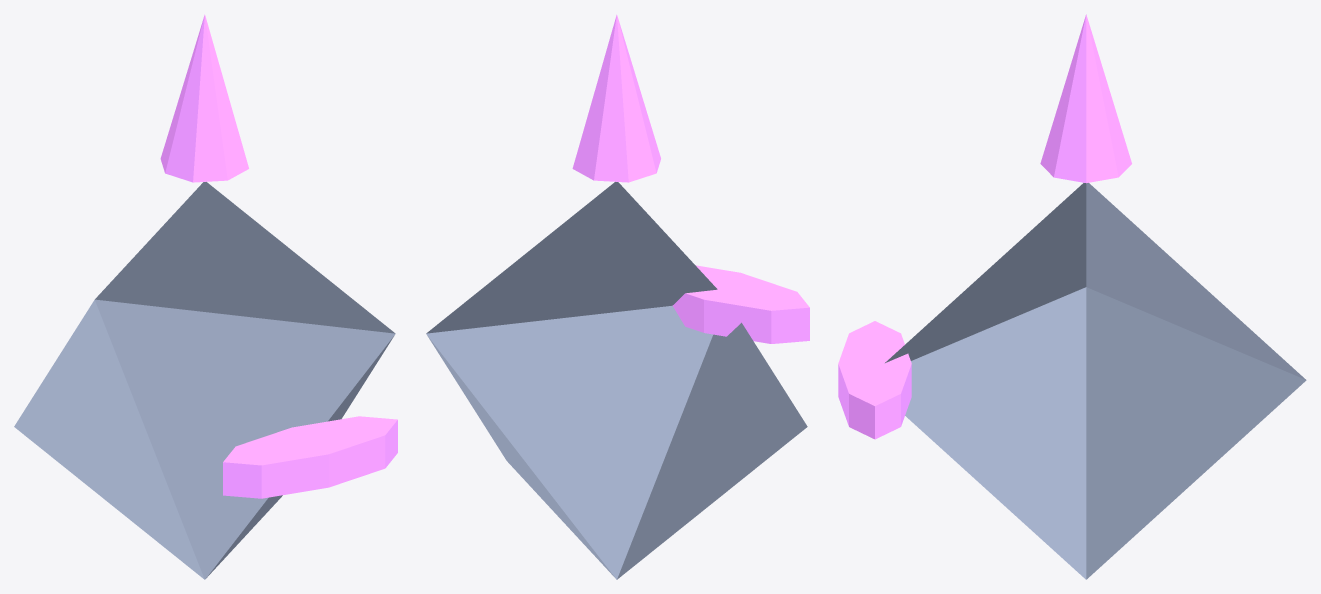
The model's file is chatbot.glb.
The picture shows the model from 3 angles, left to right: view 1: azimuth 30°, elevation 25°; view 2: azimuth 150°, elevation 25°; view 3: azimuth 270°, elevation 25°; orthographic projection.
Visible parts, largest first — view 1: orb, eye, antenna; view 2: orb, antenna, eye; view 3: orb, antenna, eye.
Boxes of the visible parts, x1,y1,x2,y2 form: orb: (14,182,395,579); eye: (223,416,397,498); antenna: (160,14,248,182); orb: (426,182,807,579); antenna: (572,14,660,182); eye: (672,265,809,343); orb: (885,183,1306,579); antenna: (1040,14,1131,183); eye: (838,321,911,439).
Size of the model in its own units: 0.48 by 0.68 by 0.51.
